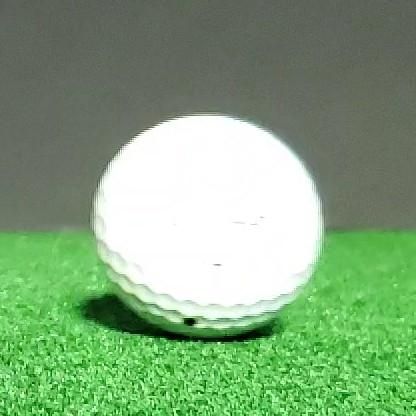golfball: (91, 115, 324, 337)
